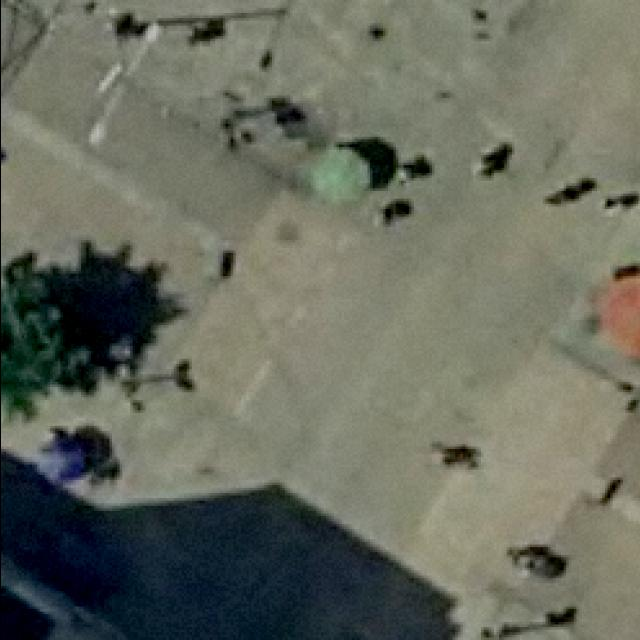vendedor_ambulante: (305, 136, 371, 212), (588, 268, 640, 358), (28, 428, 98, 489)
